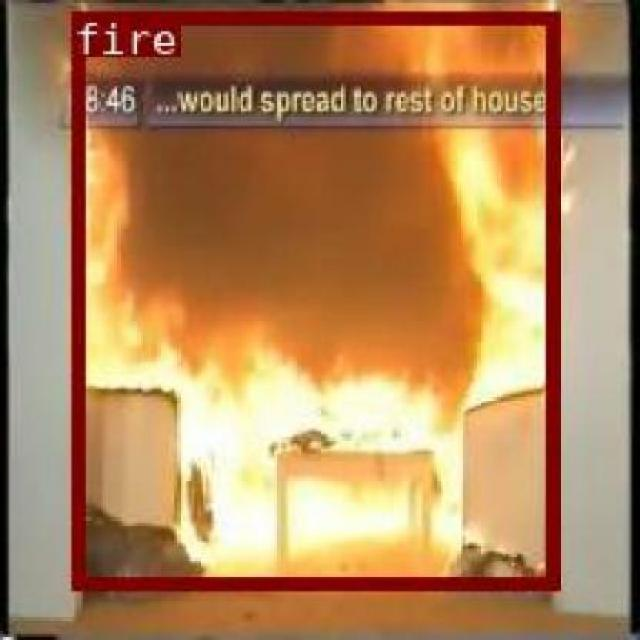fire: (70, 10, 556, 587)
